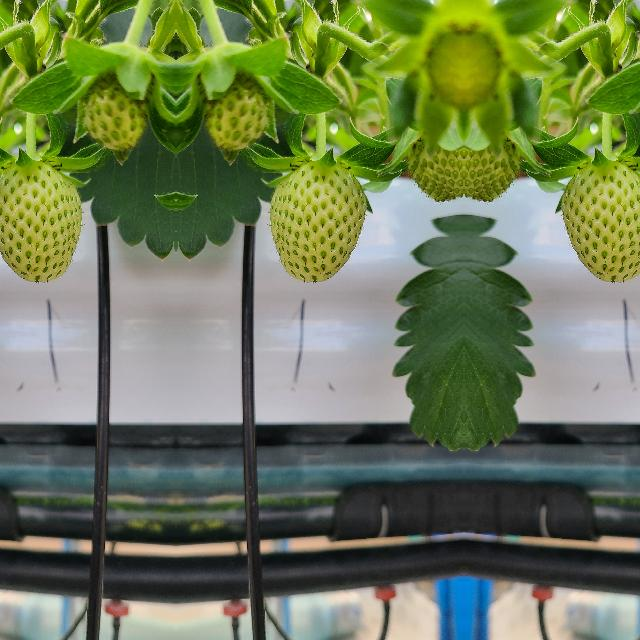Health_25: (266, 162, 366, 284), (0, 161, 84, 284), (559, 161, 640, 284), (200, 68, 270, 158), (80, 68, 150, 158), (400, 128, 462, 208), (464, 128, 526, 208)
